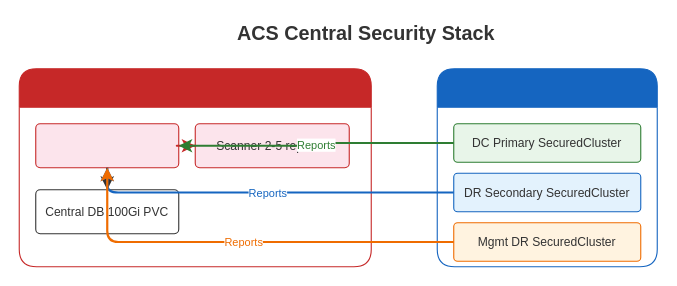
Image size: 677x286. Some labels were removed from this diagram. The shapes that lost their labels are listed below. From the top down, each one's box as (x1, y1, x2, y2) in pixels, then its label:
(35, 123, 179, 168): Central Server
(18, 68, 371, 267): ACS Central — Security Stack
(436, 68, 657, 267): Remote Clusters
